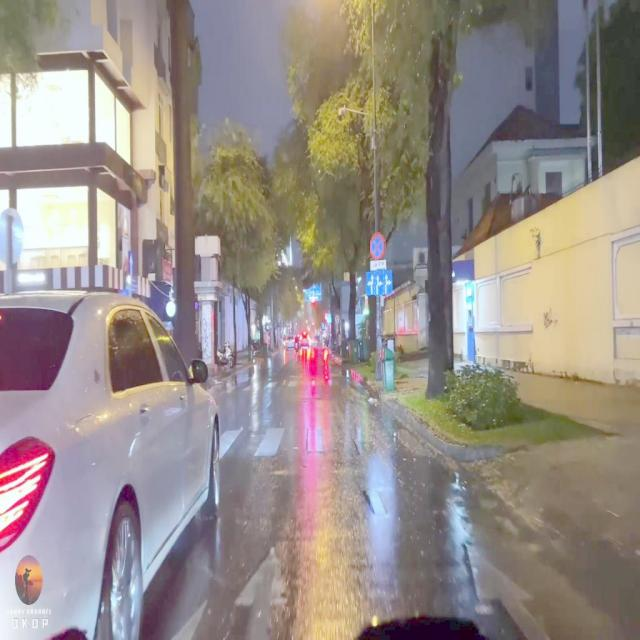cam_dung_xe_va_do_xe: (370, 232, 386, 260)
huong_di_tren_moi_lan_duong_theo_vach_ke_duong: (366, 270, 392, 296)
khac: (371, 261, 386, 271)
